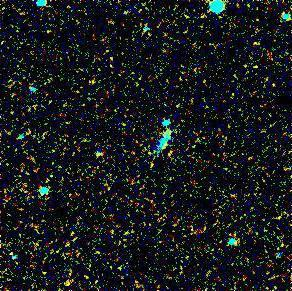star: (55, 269, 85, 291)
